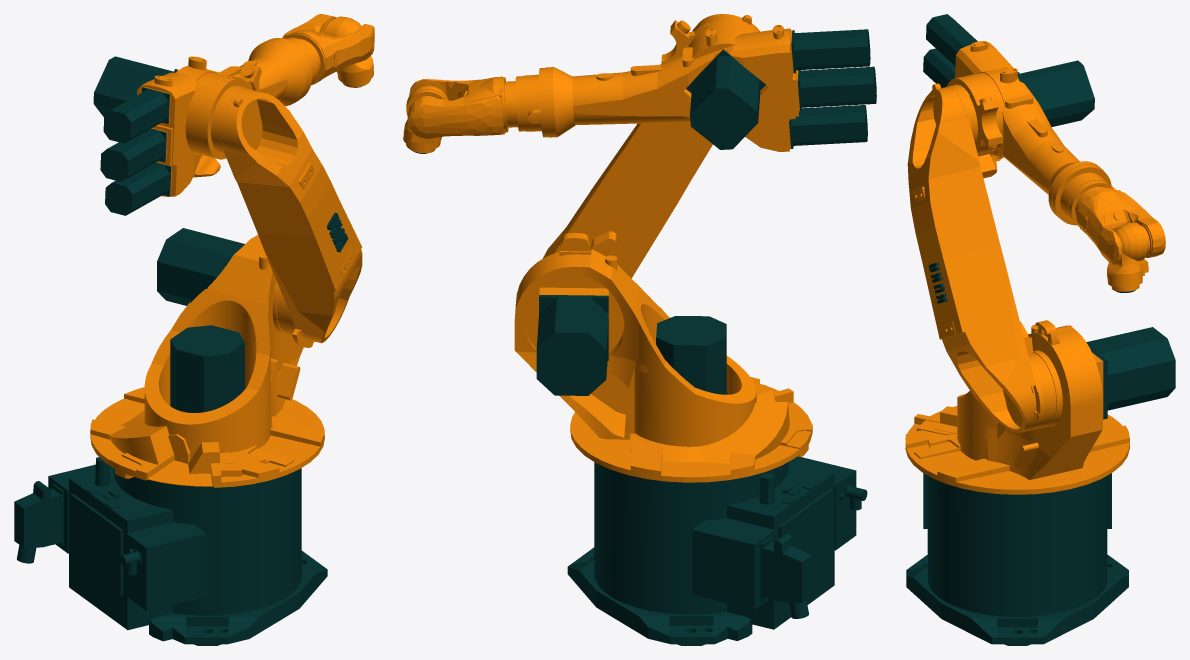
Rendered from kuka_kr6.dae.
The picture shows the model from 3 angles, left to right: view 1: azimuth 30°, elevation 25°; view 2: azimuth 150°, elevation 25°; view 3: azimuth 270°, elevation 25°; orthographic projection. The views are drawn at different scales.
Visible parts, largest first — view 1: KUKA_Base, KUKA_L1, KUKA_L2, KUKA_L3, KUKA_A1, KUKA_A2, KUKA_L4, KUKA_A6, KUKA_A3, KUKA_A4, KUKA_A5, KUKA_L5; view 2: KUKA_Base, KUKA_L1, KUKA_L3, KUKA_L2, KUKA_L4, KUKA_A2, KUKA_A3, KUKA_A1, KUKA_A6, KUKA_A4, KUKA_A5, KUKA_L5; view 3: KUKA_Base, KUKA_L2, KUKA_L1, KUKA_L3, KUKA_L4, KUKA_A2, KUKA_A3, KUKA_L5, KUKA_A6, KUKA_A4.
Part boxes in pixels (x1,y1,x2,y2): KUKA_Base: [14, 457, 327, 645]; KUKA_L1: [90, 235, 324, 487]; KUKA_L2: [214, 86, 362, 347]; KUKA_L3: [137, 39, 309, 196]; KUKA_A1: [170, 325, 244, 412]; KUKA_A2: [157, 228, 244, 305]; KUKA_L4: [269, 14, 374, 98]; KUKA_A6: [103, 87, 169, 143]; KUKA_A3: [93, 56, 177, 117]; KUKA_A4: [100, 128, 166, 181]; KUKA_A5: [105, 162, 171, 215]; KUKA_L5: [324, 16, 373, 87]; KUKA_Base: [567, 456, 867, 645]; KUKA_L1: [514, 233, 812, 482]; KUKA_L3: [545, 20, 799, 151]; KUKA_L2: [543, 14, 759, 278]; KUKA_L4: [407, 68, 549, 138]; KUKA_A2: [536, 294, 608, 395]; KUKA_A3: [686, 49, 765, 149]; KUKA_A1: [656, 316, 727, 394]; KUKA_A6: [791, 29, 870, 73]; KUKA_A4: [797, 66, 876, 110]; KUKA_A5: [789, 105, 867, 148]; KUKA_L5: [403, 85, 448, 153]; KUKA_Base: [906, 473, 1128, 645]; KUKA_L2: [907, 83, 1056, 432]; KUKA_L1: [905, 320, 1129, 494]; KUKA_L3: [947, 41, 1104, 219]; KUKA_L4: [1052, 165, 1165, 264]; KUKA_A2: [1086, 327, 1175, 419]; KUKA_A3: [1017, 60, 1094, 126]; KUKA_L5: [1107, 222, 1149, 291]; KUKA_A6: [926, 14, 977, 65]; KUKA_A4: [923, 48, 955, 87].
Size of the model in its own units: 0.9872 by 1.39 by 0.6497.
